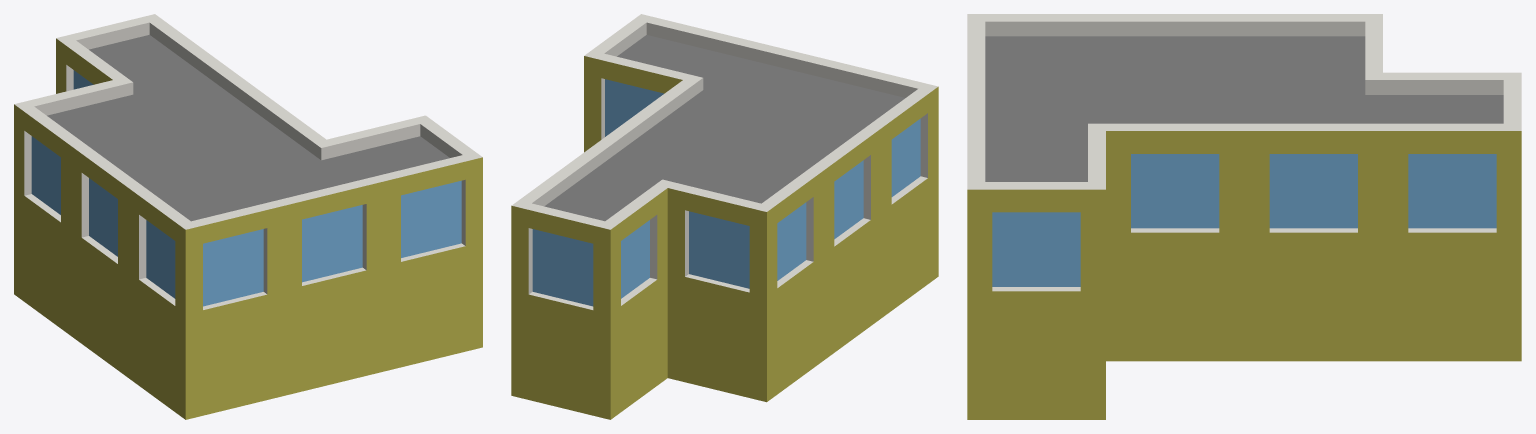
Rendered from Buidling4.fbx.
3 renders of one model, left to right at view 1: azimuth 30°, elevation 25°; view 2: azimuth 150°, elevation 25°; view 3: azimuth 270°, elevation 25°, orthographic. The views are drawn at different scales.
Parts seen in each view (by area): view 1: City.004; view 2: City.004; view 3: City.004.
Boxes of the visible parts, x1,y1,x2,y2 form: City.004: (14, 14, 482, 419); City.004: (511, 14, 938, 419); City.004: (967, 14, 1521, 419).
Size of the model in its own units: 2700 by 1650 by 3600.
